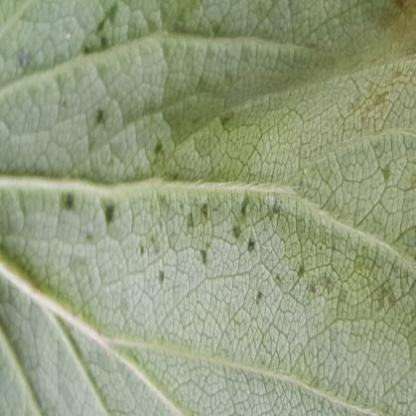Strawberry_Angular_LeafSpot: (53, 1, 415, 319)
